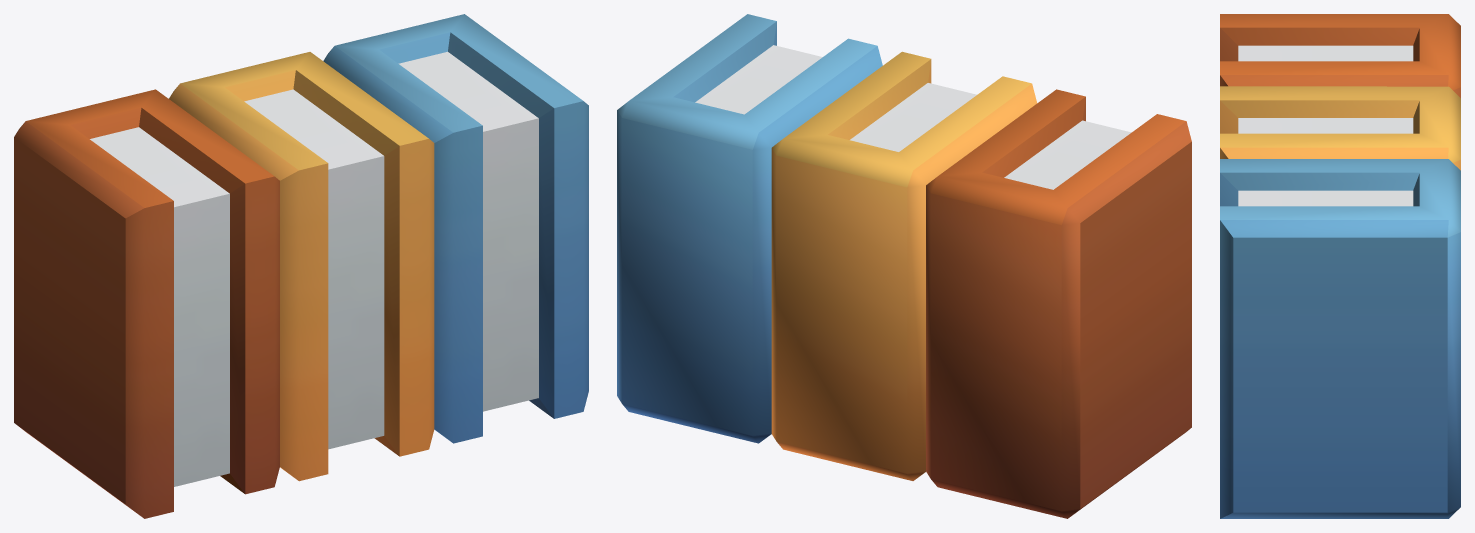
Rendered from book_set.glb.
3 views of the same model, side by side, from view 1: azimuth 30°, elevation 25°; view 2: azimuth 150°, elevation 25°; view 3: azimuth 270°, elevation 25° (orthographic). The views are drawn at different scales.
Visible parts, largest first — view 1: book_set; view 2: book_set; view 3: book_set.
Part boxes in pixels (bbox=[...]): book_set: bbox=[14, 14, 588, 518]; book_set: bbox=[617, 14, 1191, 518]; book_set: bbox=[1220, 14, 1460, 518].
Bounding box in the file's own units: 0.78 × 0.5 × 0.365.
Materials: 1 (1 with a texture image).
